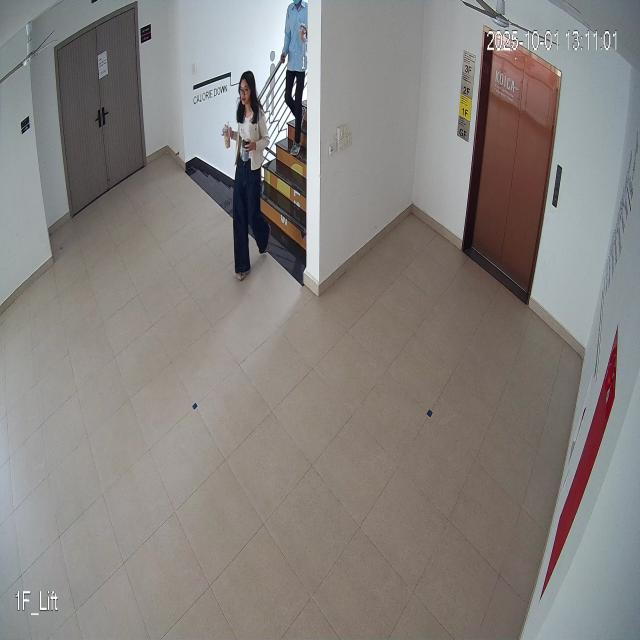face: (236, 68, 256, 108)
